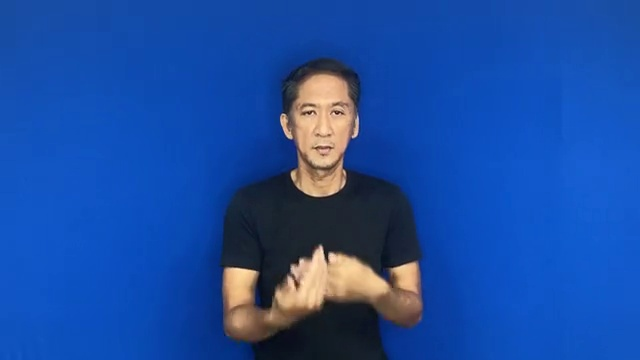bread: (264, 238, 382, 330)
